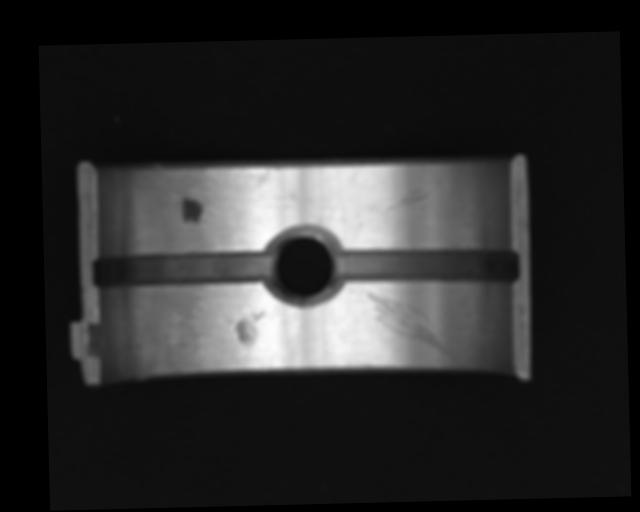blot: (181, 196, 203, 224)
bruise: (234, 309, 265, 345)
gap: (334, 244, 521, 288), (93, 250, 273, 286)
hole: (262, 226, 343, 308)
nick: (366, 289, 453, 362), (371, 186, 429, 217)
